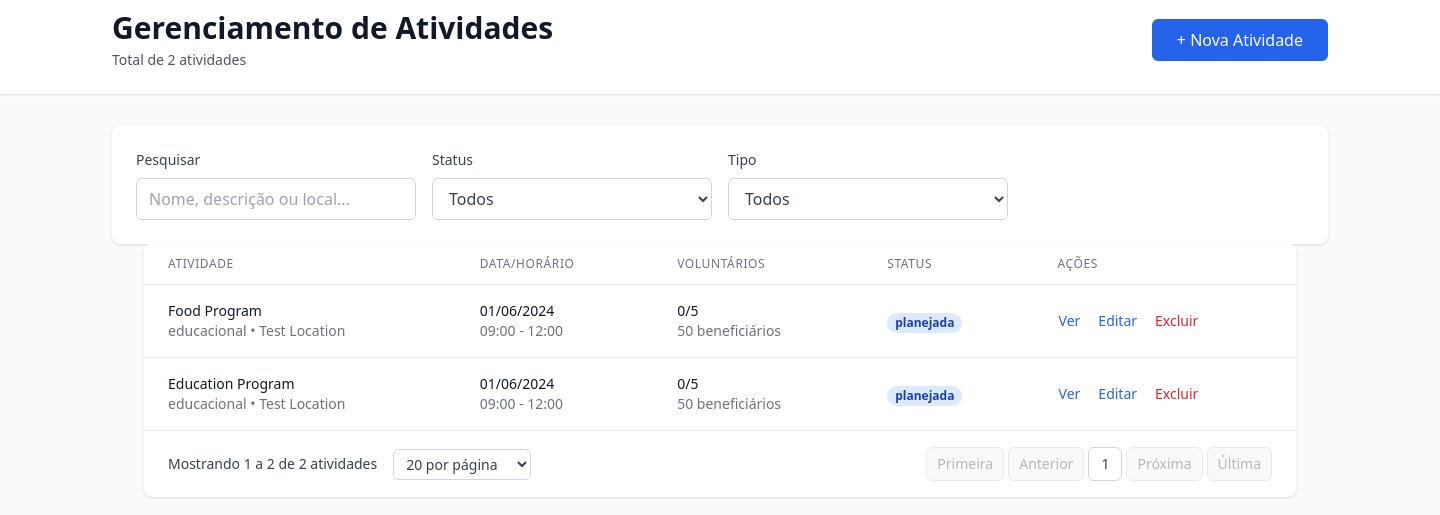
Scenario: ONGActivitiesPage › Filtering › should filter activities by search term
Expected: the text "Food Program" is shown, [168,301,262,320]
Expected: the text "Education Program" is shown, [168,374,294,393]
Type "food" into the field with placeholder "Nome, descrição ou local...". click: (276, 199)
box: [136,178,416,220]
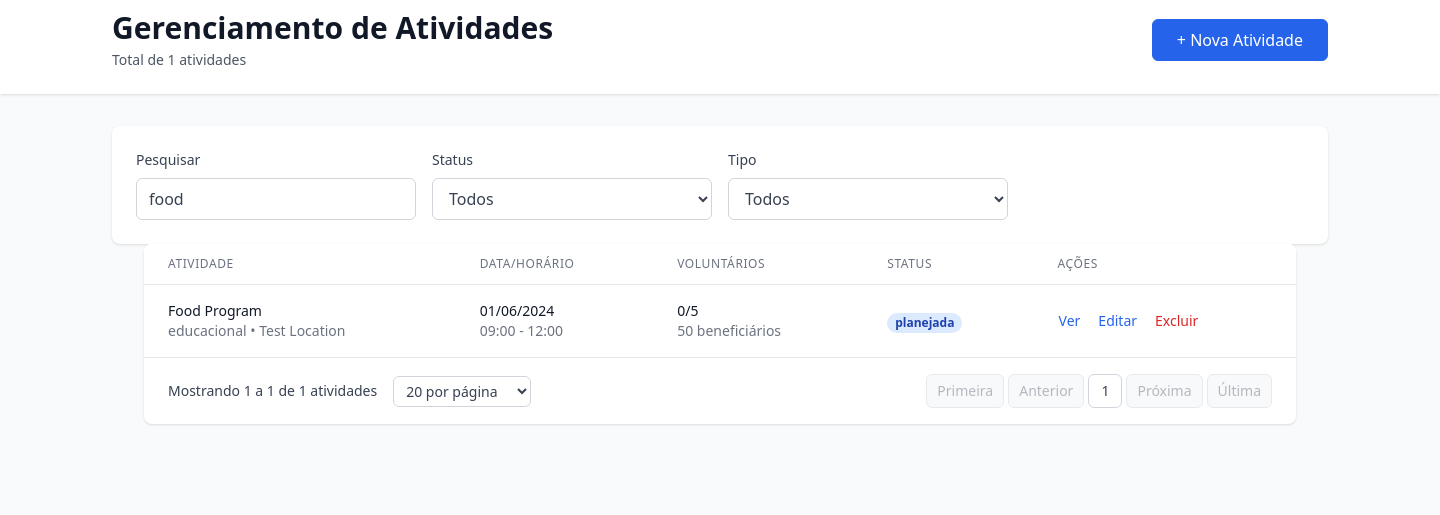
Expected: the text "Food Program" is shown, [168,301,262,320]
Now the text "Education Program" is gone
